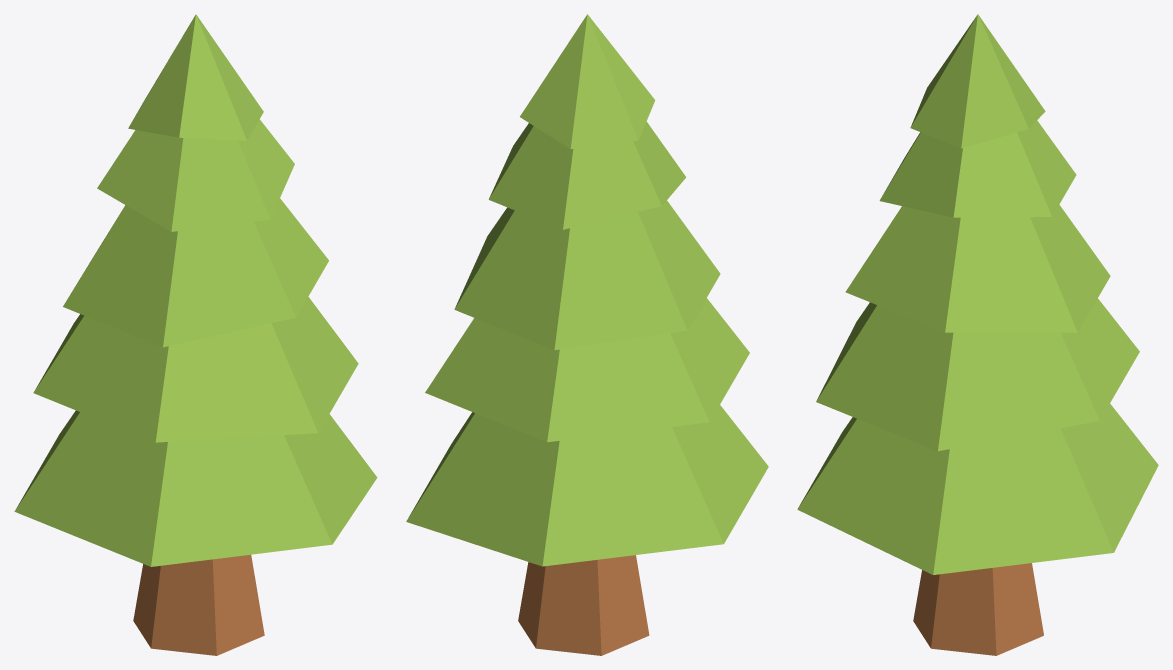
Rendered from Tree2.fbx.
3 renders of one model, left to right at view 1: azimuth 30°, elevation 25°; view 2: azimuth 150°, elevation 25°; view 3: azimuth 270°, elevation 25°, orthographic.
Visible parts, largest first — view 1: Tree2; view 2: Tree2; view 3: Tree2.
Boxes of the visible parts, x1,y1,x2,y2 form: Tree2: [14, 14, 377, 655]; Tree2: [406, 14, 768, 655]; Tree2: [797, 14, 1158, 655].
Size of the model in its own units: 3.03 by 5.6 by 2.99.
